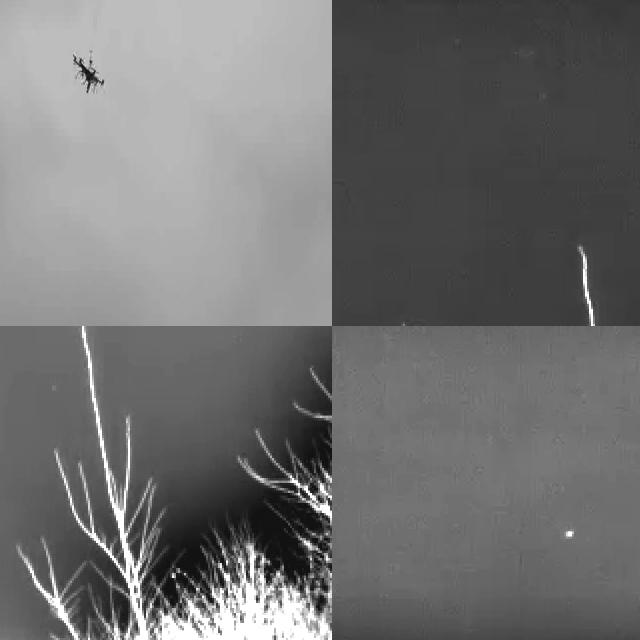0: (38, 379, 64, 397), (389, 314, 415, 326)
1: (553, 524, 577, 549)
drone: (72, 53, 104, 93)
